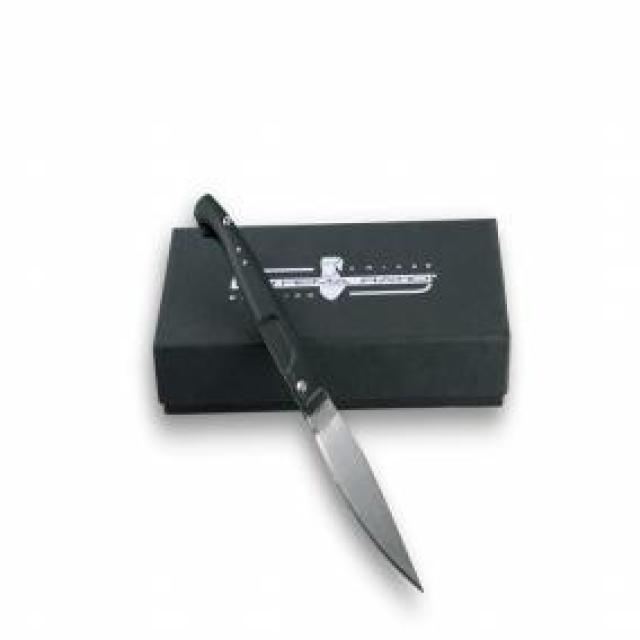knife: (286, 354, 434, 603)
